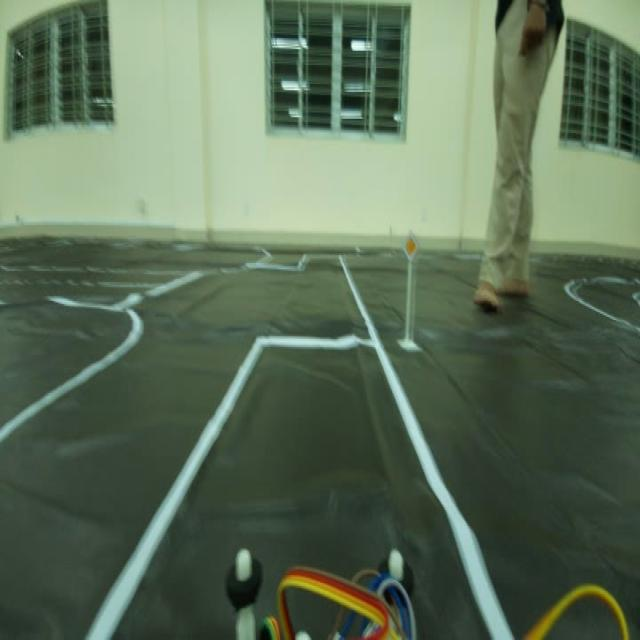priority: (398, 230, 422, 264)
